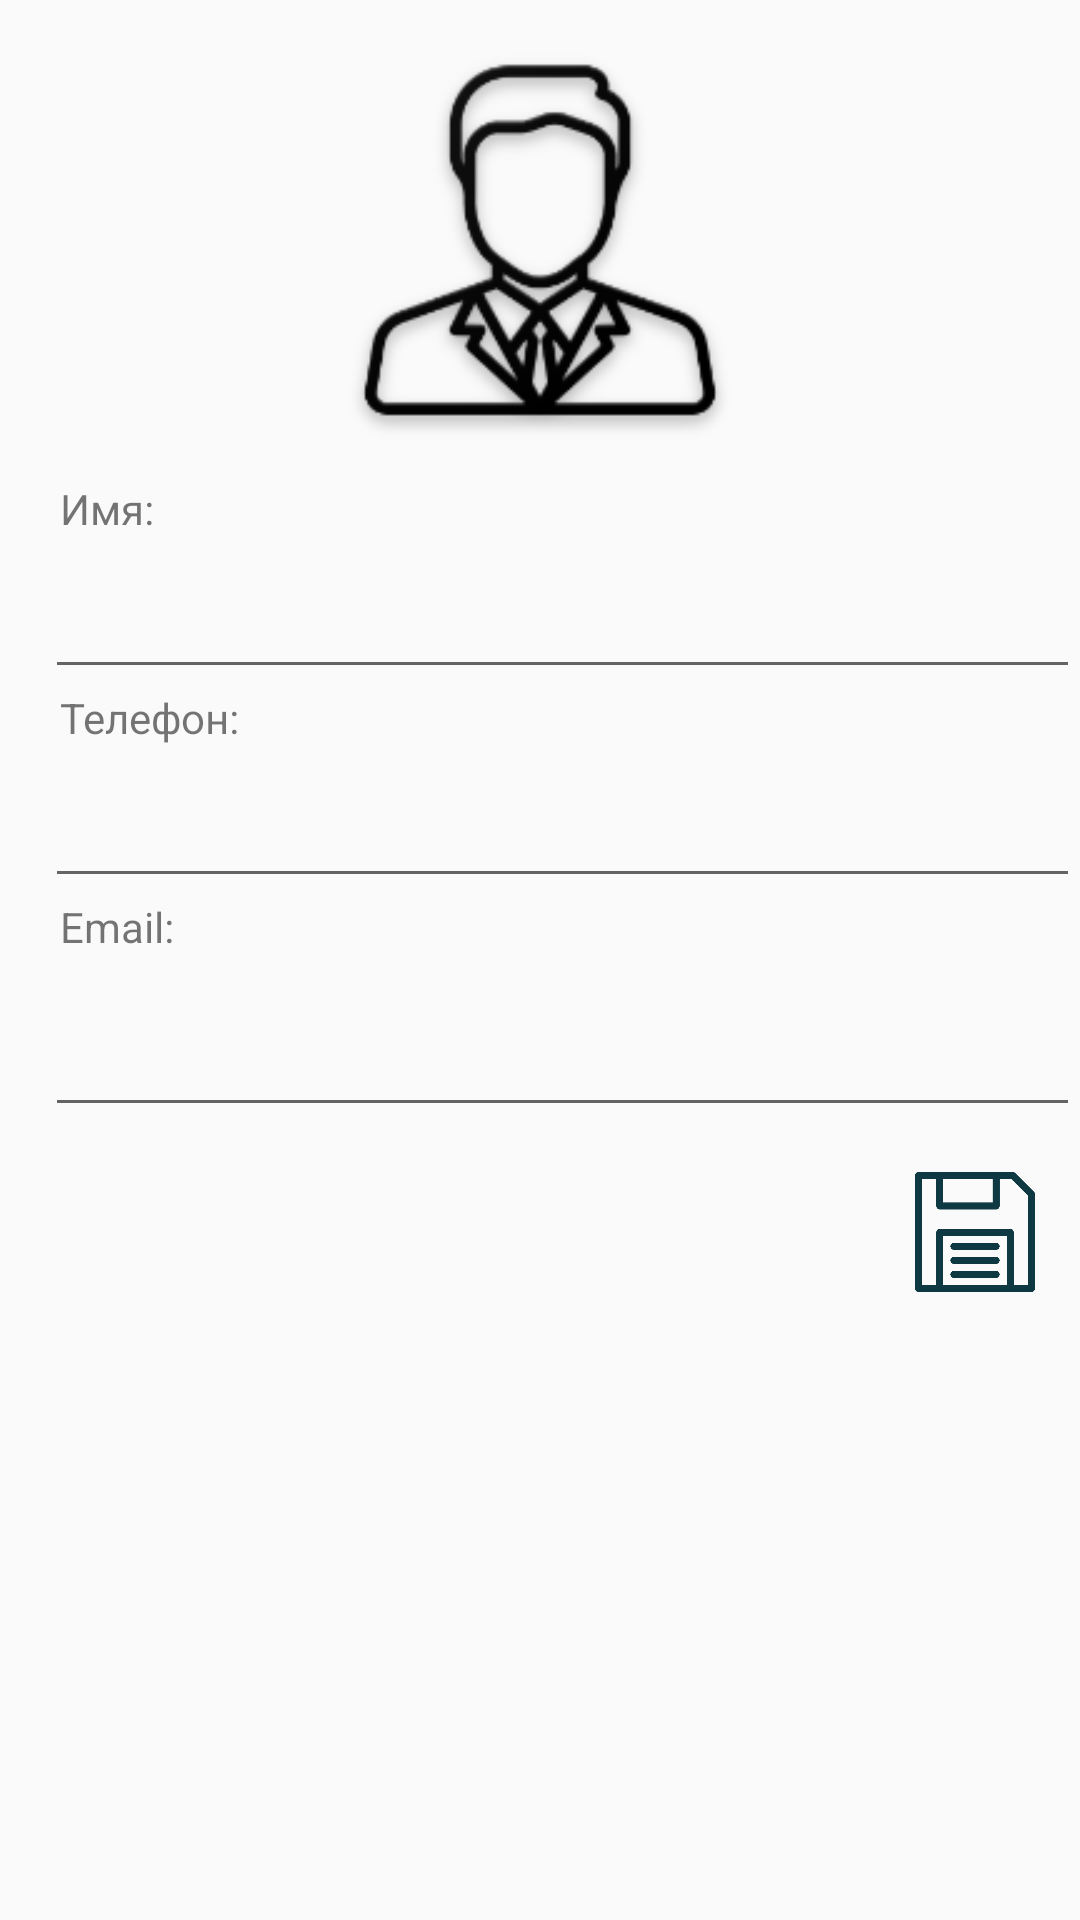

Icons on this 1080px×1920px Android screen, each with its box as (x1, y1, x2, y2):
save: (915, 1172, 1035, 1292)
